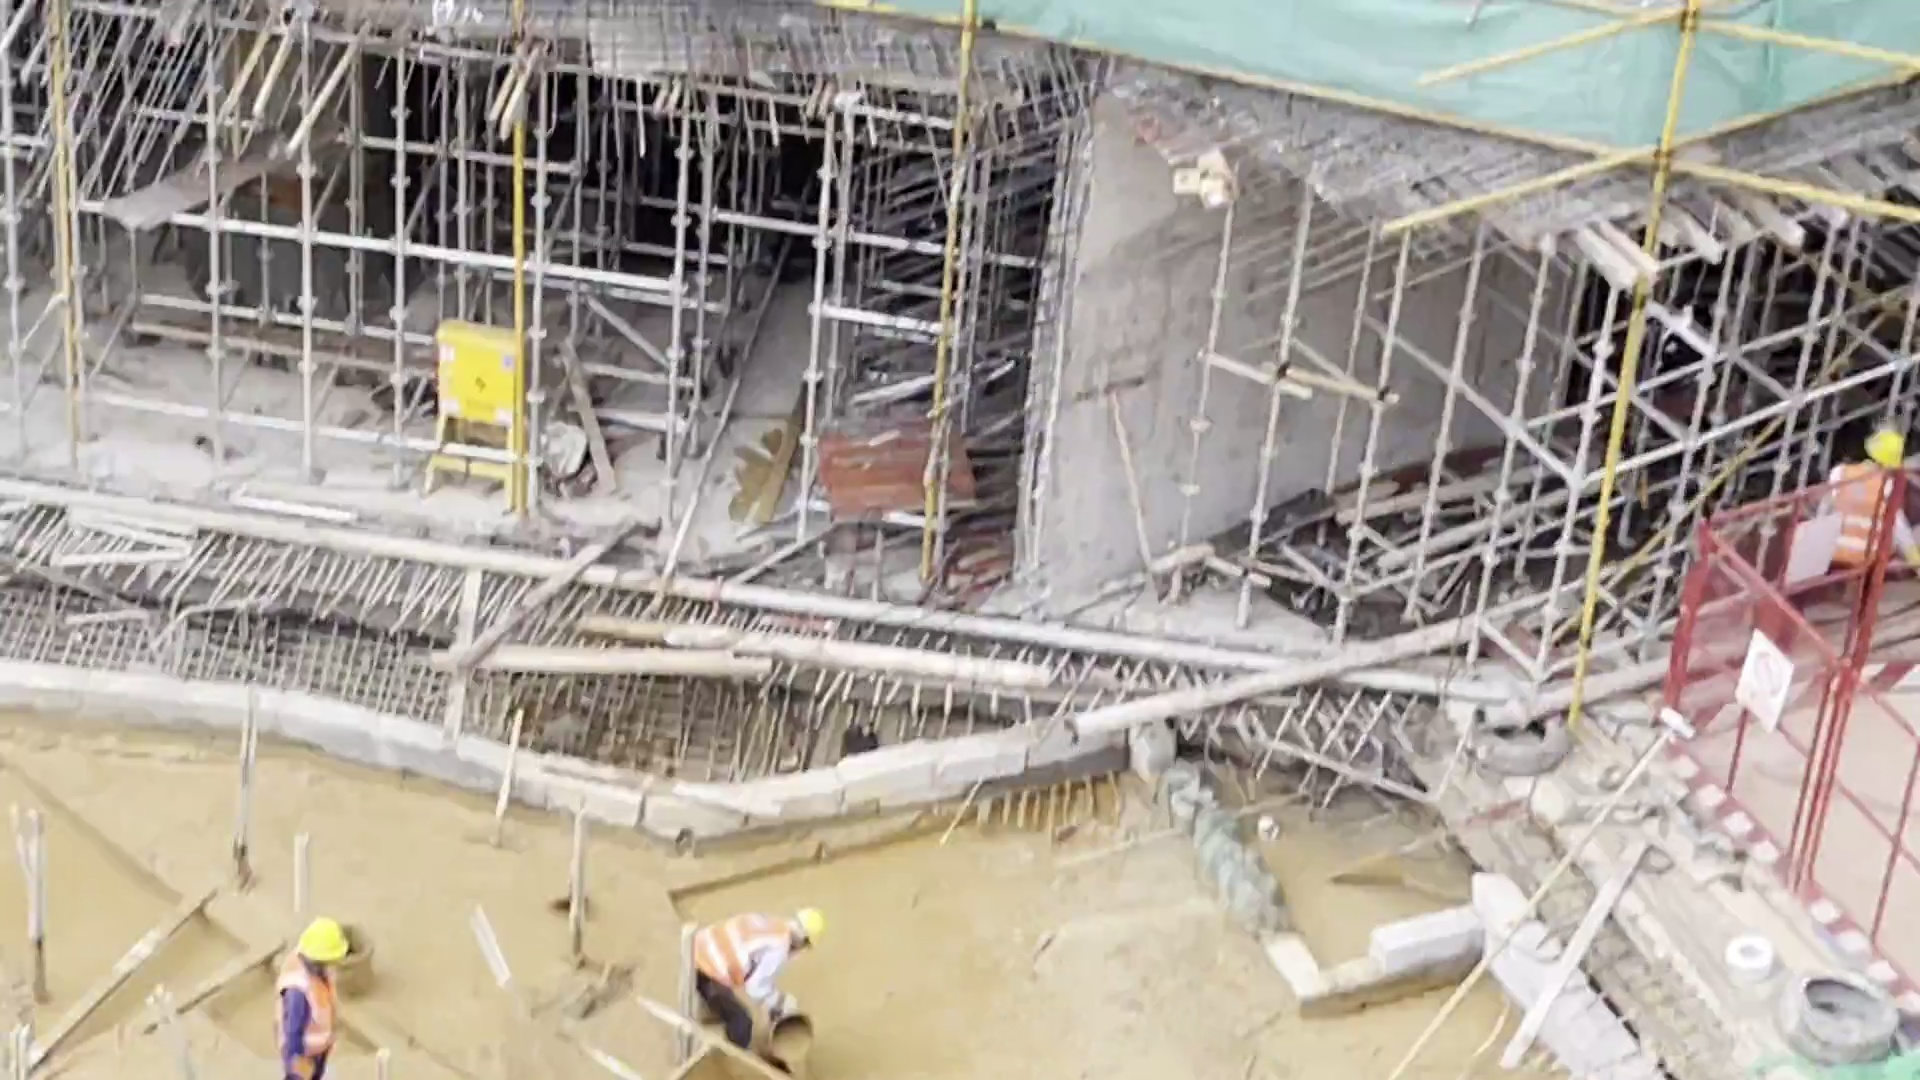ebox: (425, 316, 533, 517)
fence: (1658, 525, 1920, 983)
helmet: (292, 919, 349, 963), (1863, 425, 1905, 473), (797, 908, 826, 951)
person: (689, 901, 820, 1050), (1820, 425, 1920, 575), (268, 917, 344, 1080)
vest: (690, 914, 799, 987), (1819, 463, 1886, 562), (275, 960, 342, 1057)
